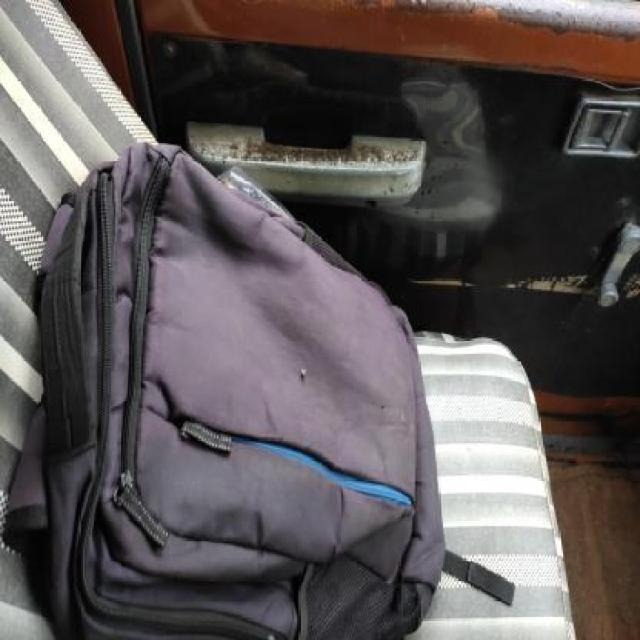backpack: (0, 137, 449, 640)
